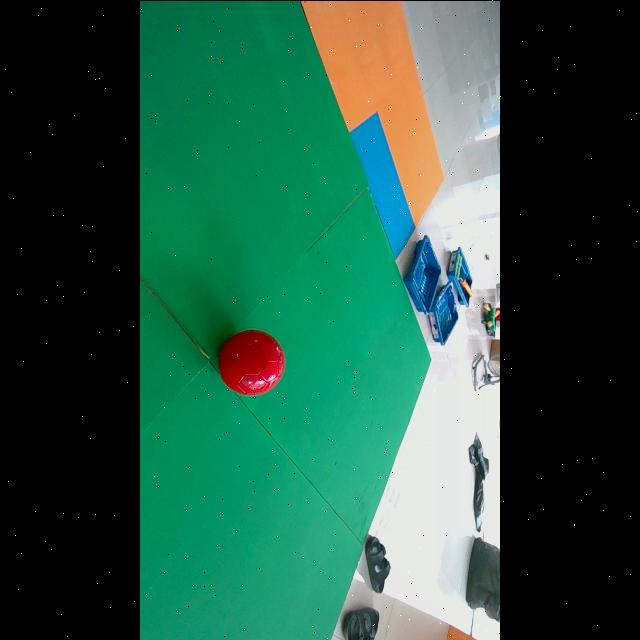R: (218, 329, 284, 394)
